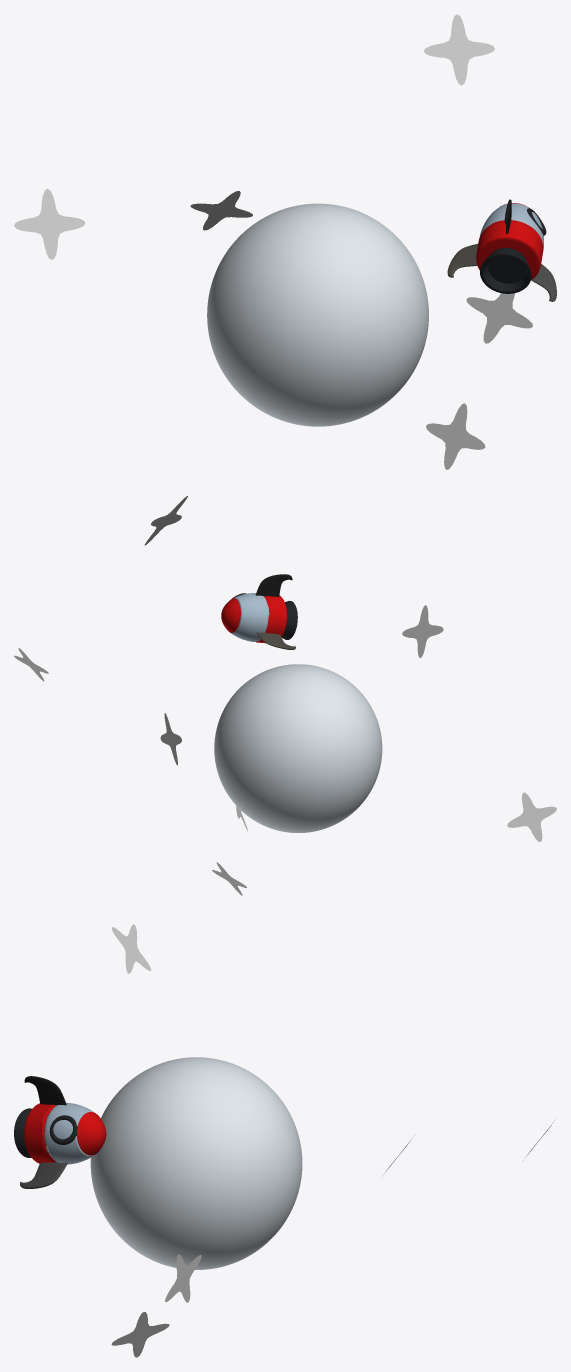
Rendered from moon.obj.
3 renders of one model, top to bottom at view 1: azimuth 30°, elevation 25°; view 2: azimuth 150°, elevation 25°; view 3: azimuth 270°, elevation 25°, orthographic. The views are drawn at different scales.
Parts seen in each view (by area): view 1: Moon, Sphere, star.001, star.004, star, star.005, Cylinder, star.002, particle_system; view 2: Moon, Sphere, star.003, star.002, Plane.002, Cylinder; view 3: Moon, Sphere, star.005, star.002, star, Plane.001, Plane.002.
Part boxes in pixels (x1=…): Moon: x1=207, y1=203, x2=428, y2=426; Sphere: x1=476, y1=203, x2=543, y2=280; star.001: x1=423, y1=14, x2=494, y2=85; star.004: x1=14, y1=189, x2=85, y2=259; star: x1=466, y1=293, x2=532, y2=343; star.005: x1=426, y1=403, x2=485, y2=469; Cylinder: x1=480, y1=248, x2=531, y2=293; star.002: x1=190, y1=191, x2=252, y2=230; particle_system: x1=488, y1=256, x2=525, y2=283; Moon: x1=214, y1=664, x2=382, y2=832; Sphere: x1=221, y1=593, x2=286, y2=643; star.003: x1=507, y1=792, x2=556, y2=841; star.002: x1=402, y1=605, x2=443, y2=658; Plane.002: x1=255, y1=574, x2=292, y2=596; Cylinder: x1=282, y1=601, x2=297, y2=639; Moon: x1=90, y1=1057, x2=302, y2=1269; Sphere: x1=24, y1=1102, x2=106, y2=1164; star.005: x1=111, y1=1312, x2=169, y2=1357; star.002: x1=111, y1=924, x2=151, y2=973; star: x1=165, y1=1254, x2=201, y2=1302; Plane.001: x1=20, y1=1162, x2=67, y2=1188; Plane.002: x1=24, y1=1076, x2=66, y2=1105.
Size of the model in its own units: 16.61 by 10.27 by 15.44.
